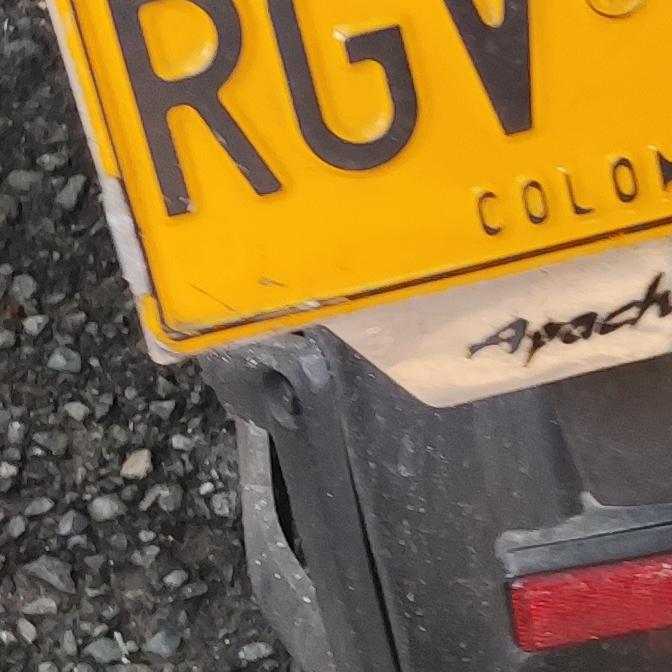plates: (50, 0, 672, 366)
